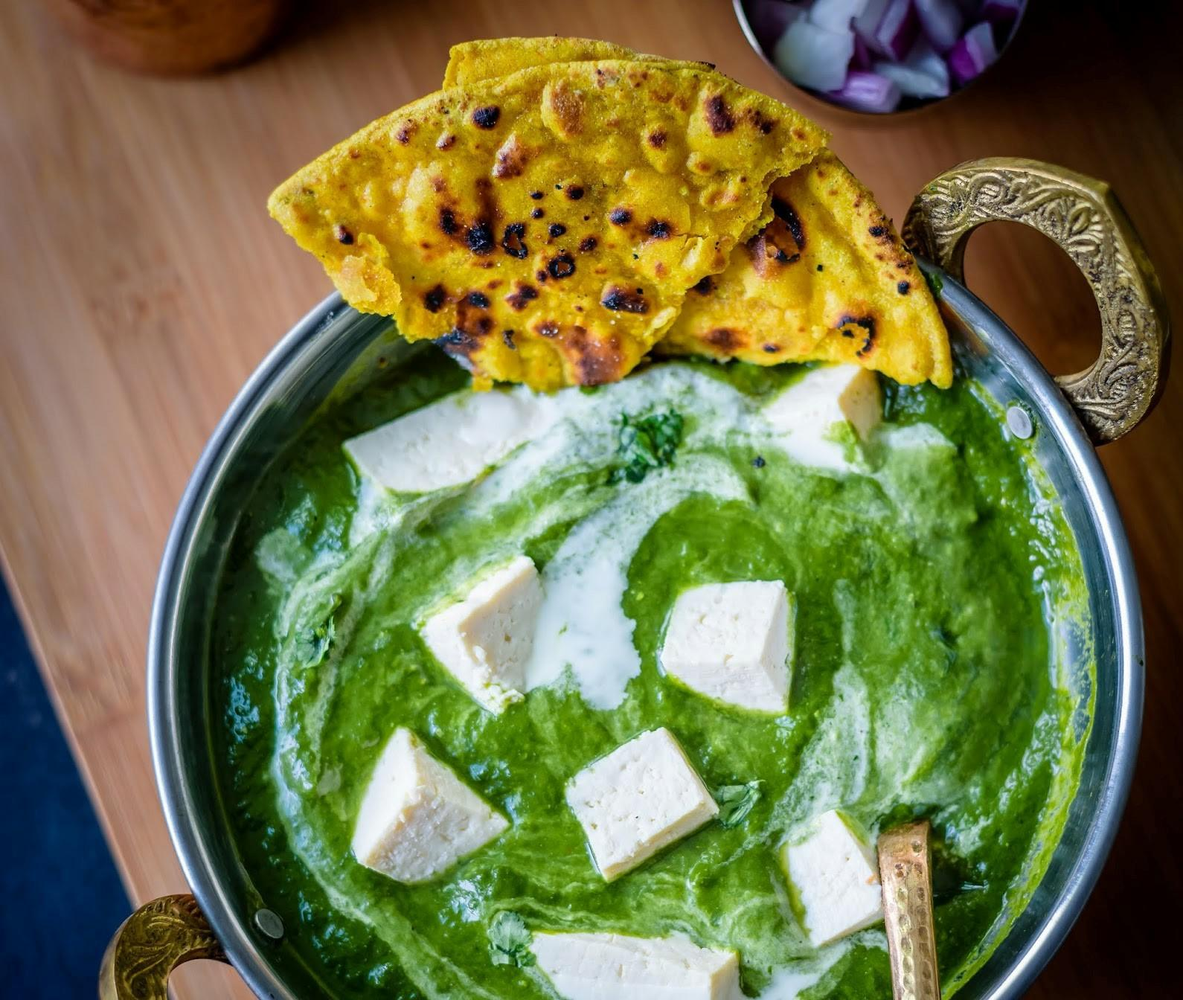PalakPaneer: (217, 372, 1096, 1000)
